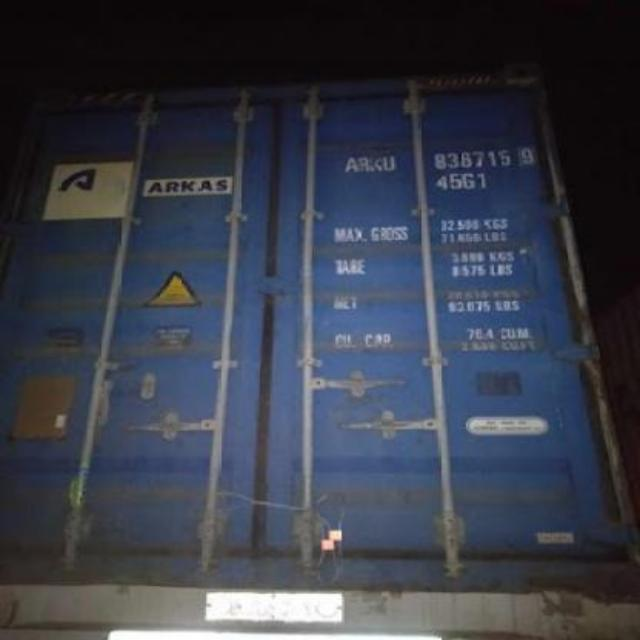1: (486, 151, 499, 169)
3: (446, 151, 459, 169)
5: (498, 148, 512, 168)
6: (458, 152, 474, 168)
7: (472, 150, 486, 168)
8: (434, 152, 446, 170)
9: (520, 147, 534, 165)
A: (344, 154, 356, 174)
K: (368, 156, 382, 172)
R: (358, 156, 370, 174)
U: (382, 156, 396, 172)
